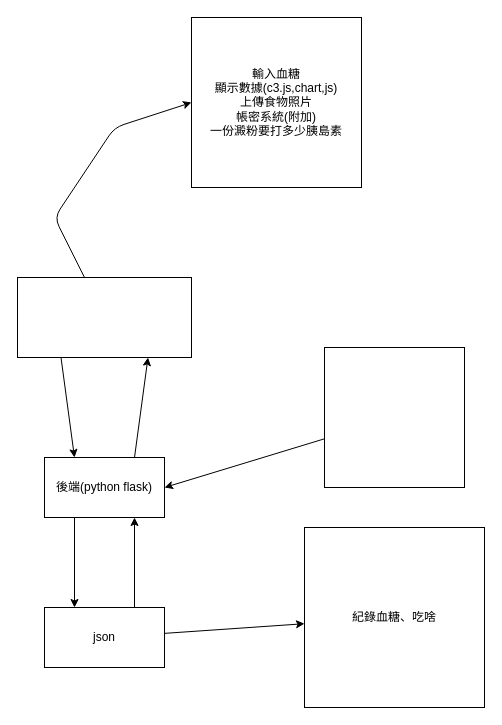
This 502x725 diagram has some shape labels left out. Here are the shapes that lost their labels. From the top down, the centre of each, then its label:
At pixel 104 317: "前端(Html,javascript,css)".
At pixel 394 417: "計算需要打多少胰島素、向前端渲染網頁、 處理前後端通訊邏輯".
